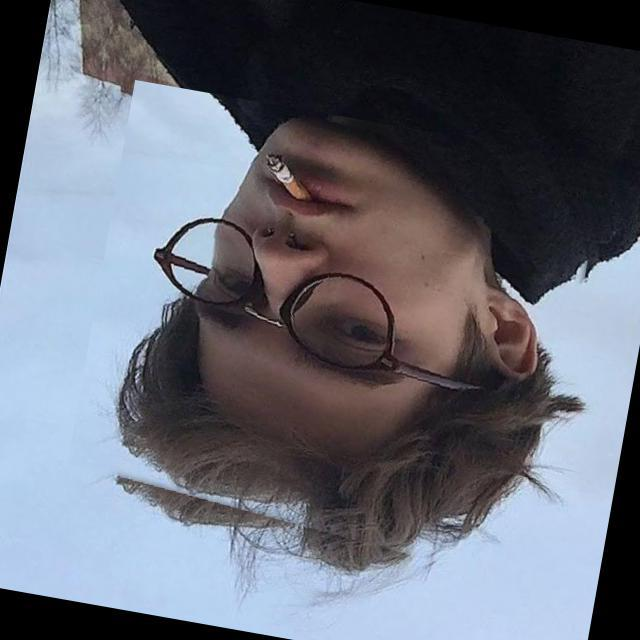cigarette: (252, 167, 346, 252)
